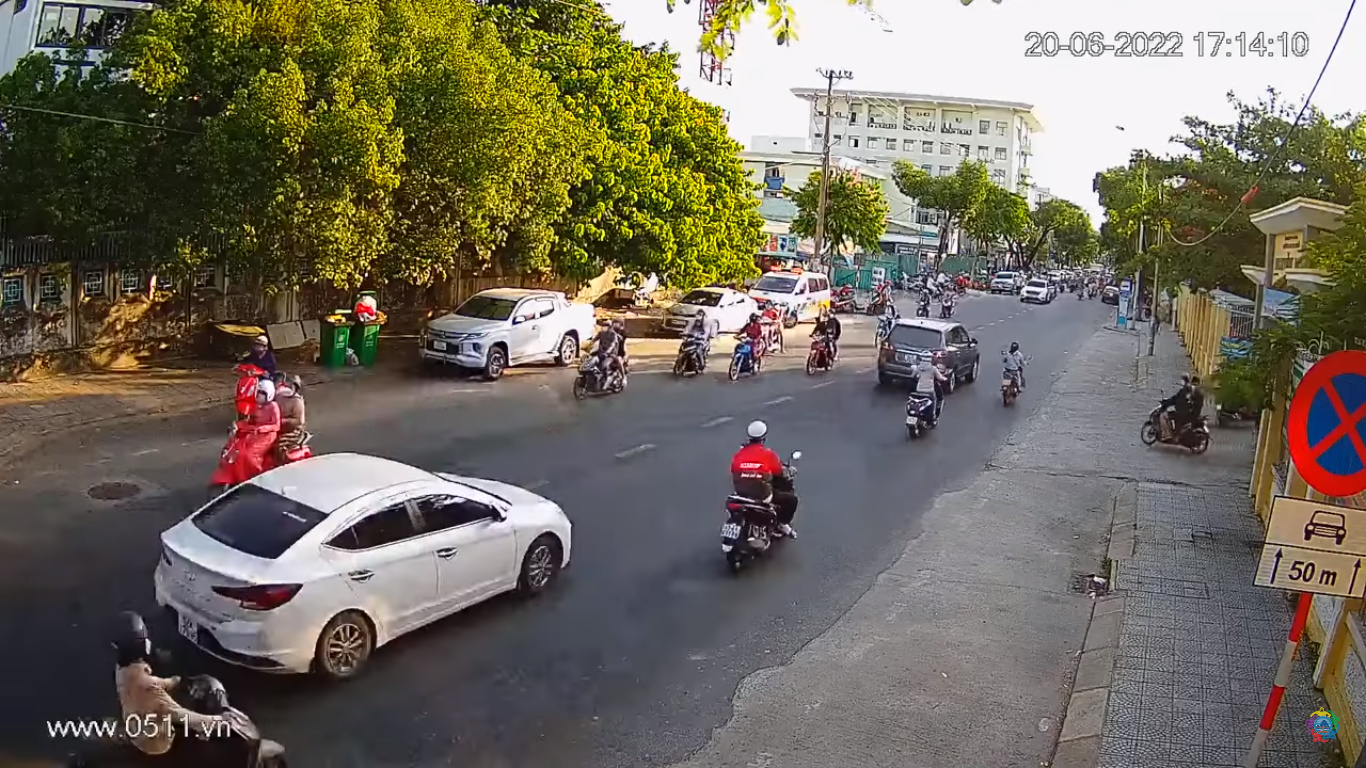car: (155, 449, 578, 679)
